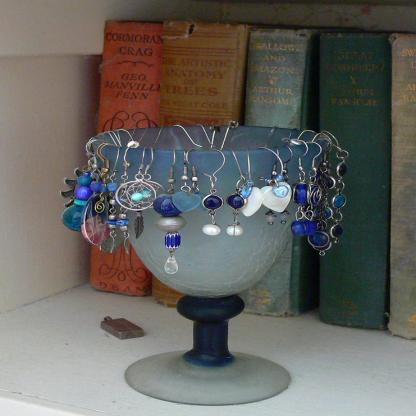vase: (87, 121, 337, 406)
